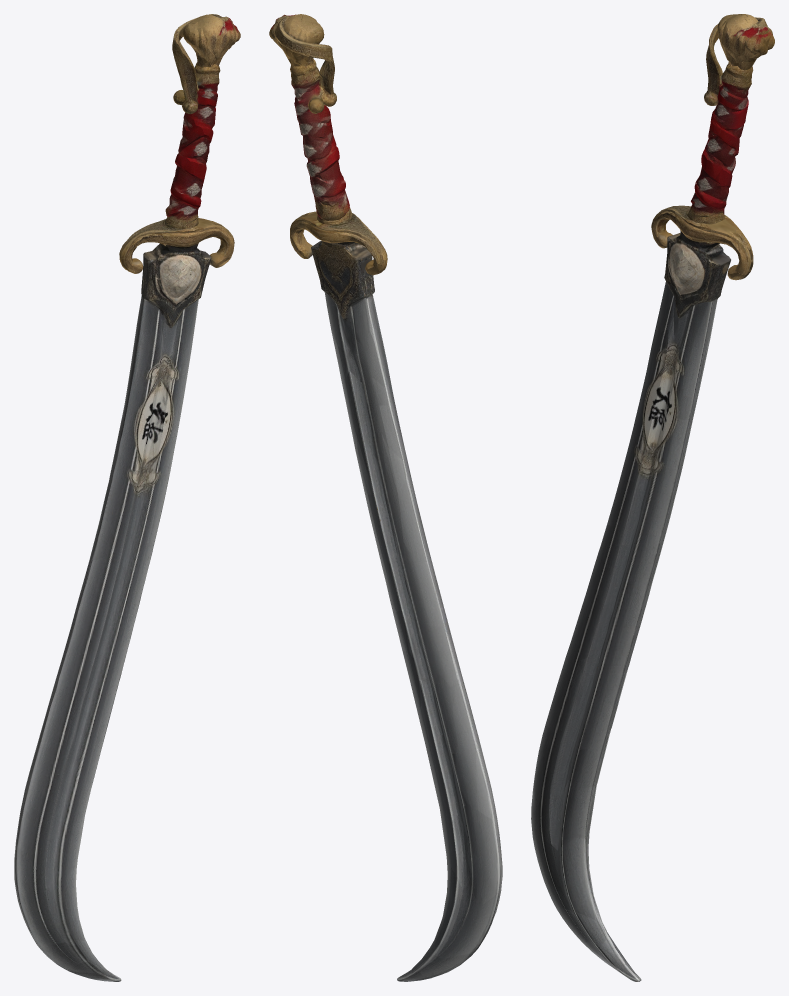
Rendered from prop_blade.glb.
3 views of the same model, side by side, from view 1: azimuth 30°, elevation 25°; view 2: azimuth 150°, elevation 25°; view 3: azimuth 330°, elevation 25° (orthographic). The views are drawn at different scales.
Parts seen in each view (by area): view 1: mesh_node; view 2: mesh_node; view 3: mesh_node.
Part boxes in pixels (x1,y1,x2,y2): mesh_node: (14,14,240,981); mesh_node: (269,14,502,981); mesh_node: (531,14,774,981).
Bounding box in the file's own units: 0.4763 × 1.9 × 0.1156.
Materials: 1 (1 with a texture image).
